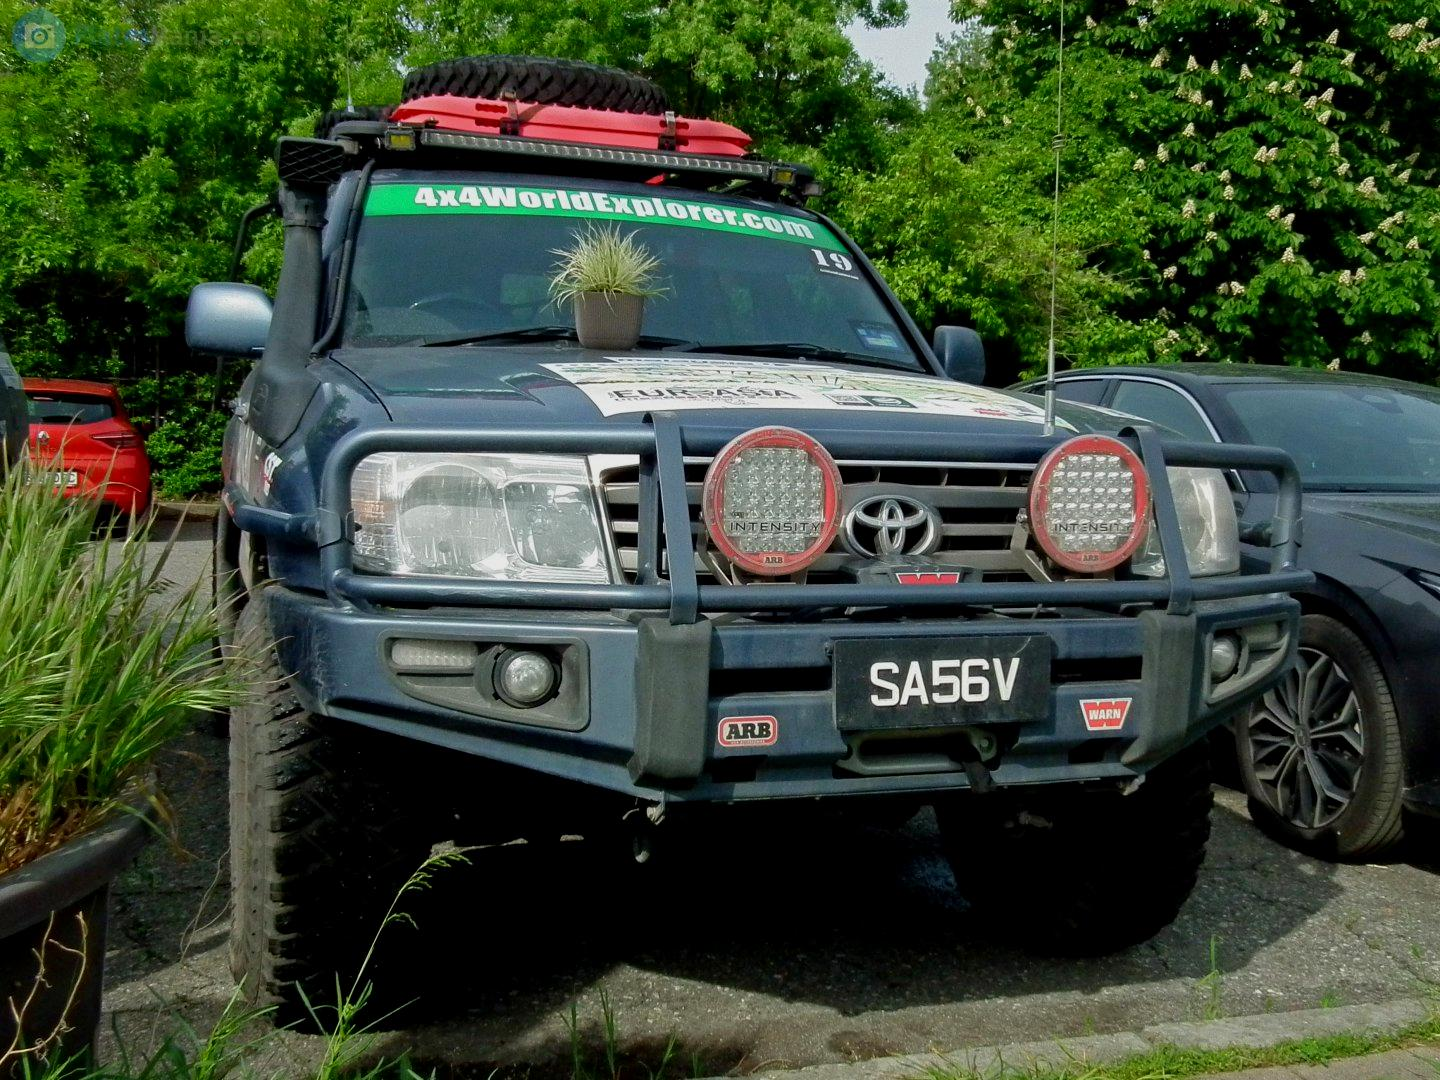License Plate: (835, 637, 1056, 726)
